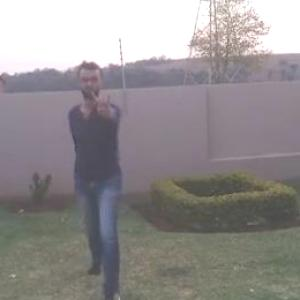takeoff-hand: (88, 86, 120, 122)
